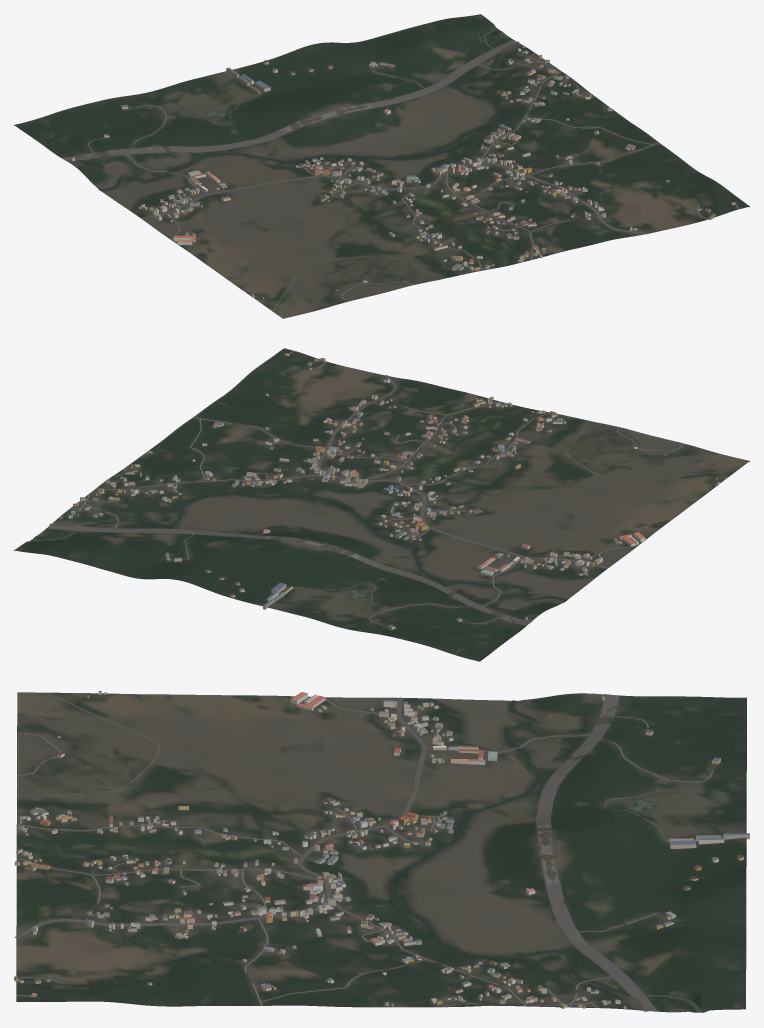
The picture shows the model from 3 angles, top to bottom: view 1: azimuth 30°, elevation 25°; view 2: azimuth 150°, elevation 25°; view 3: azimuth 270°, elevation 25°; orthographic projection. The views are drawn at different scales.
Visible parts, largest first — view 1: ground, buildings, roads, water; view 2: ground, buildings, roads, water; view 3: ground, buildings, roads, water.
Boxes of the visible parts, box(x1,y1,x2,y2) form: ground: box(14, 14, 749, 318); buildings: box(72, 45, 736, 298); roads: box(61, 40, 739, 311); water: box(99, 28, 500, 190); ground: box(14, 348, 749, 661); buildings: box(59, 353, 719, 629); roads: box(48, 351, 739, 625); water: box(30, 493, 566, 601); ground: box(16, 692, 746, 1012); buildings: box(14, 691, 749, 1008); roads: box(14, 692, 746, 1011); water: box(389, 700, 701, 1012).
Bounding box in the file's own units: 1409 × 39.6 × 1414.
